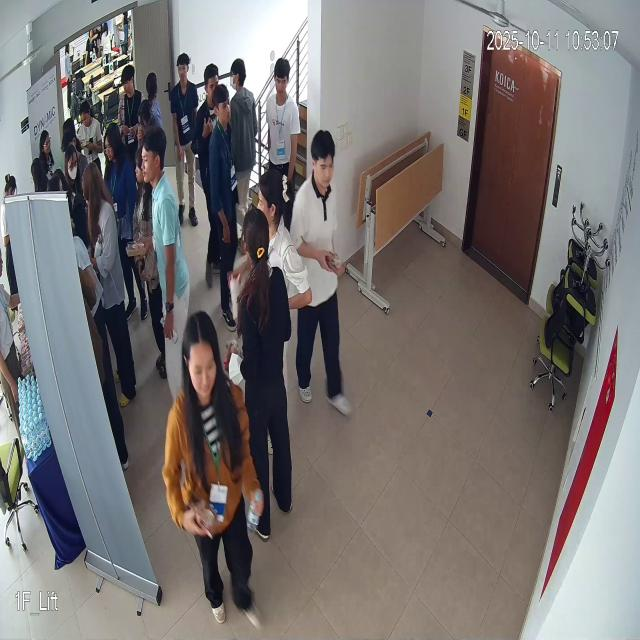face: (310, 115, 340, 199), (139, 130, 169, 190), (212, 81, 234, 130)
